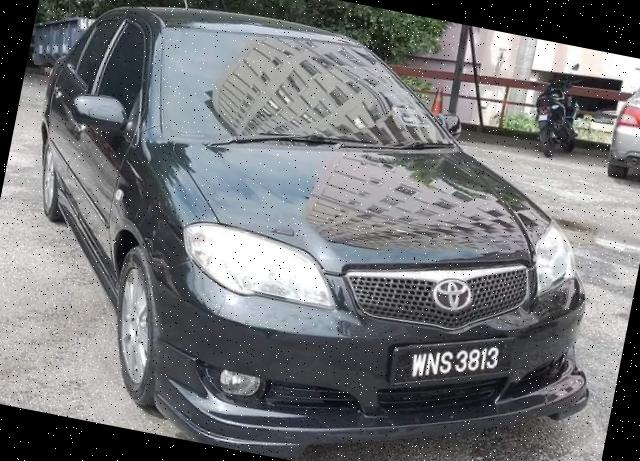License_Plate: (398, 320, 508, 408)
